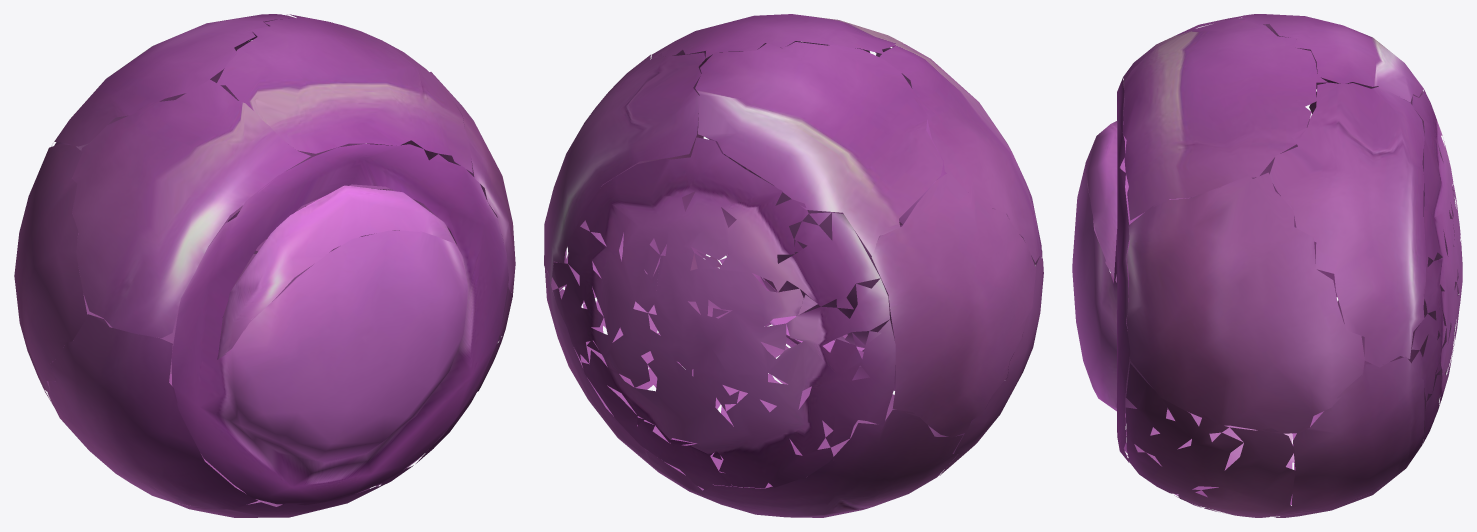
Rendered from iris.glb.
3 views of the same model, side by side, from view 1: azimuth 30°, elevation 25°; view 2: azimuth 150°, elevation 25°; view 3: azimuth 270°, elevation 25° (orthographic).
Size of the model in its own units: 0.2707 by 0.2696 by 0.2098.
1 material, 1 textured.
